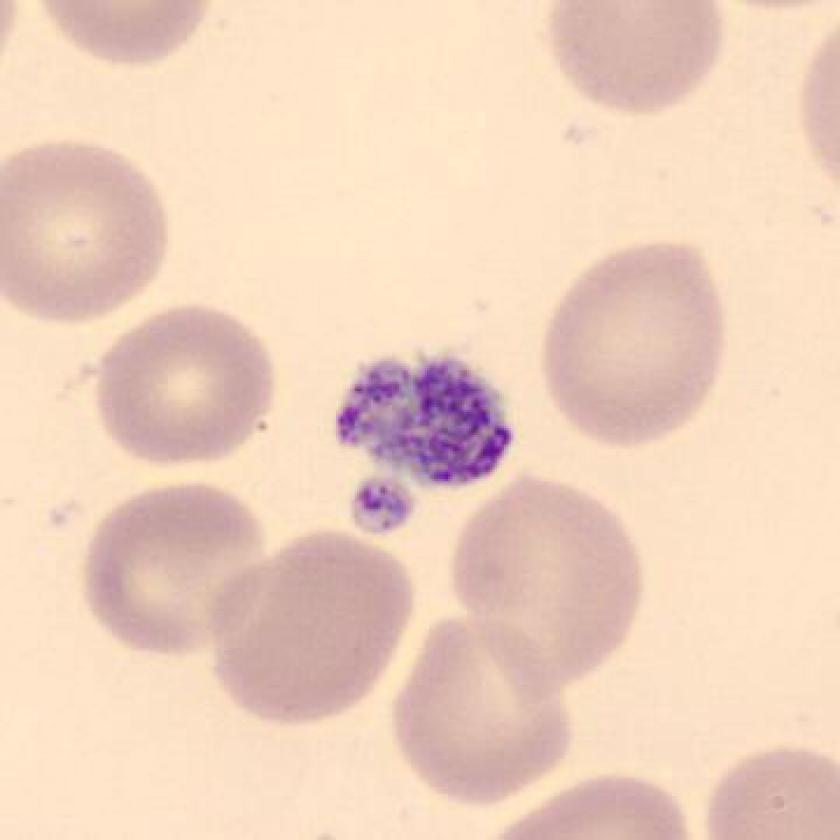platelets: (335, 355, 517, 492), (346, 473, 421, 545)
